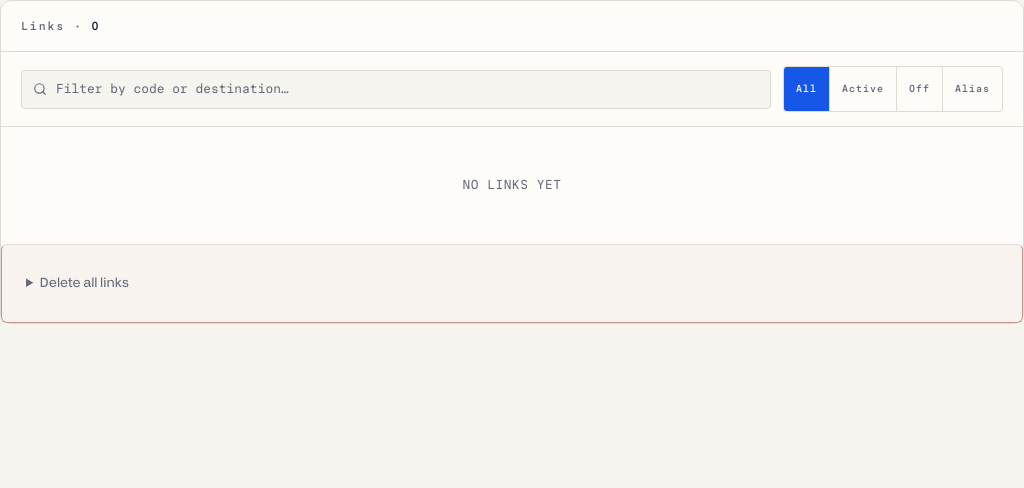
Test: admin delete-all flow › does not claim deletion on a malformed successful HTTP response
Click the heading "Delete all links". click: x=84, y=283
box: left=40, top=274, right=129, bottom=292
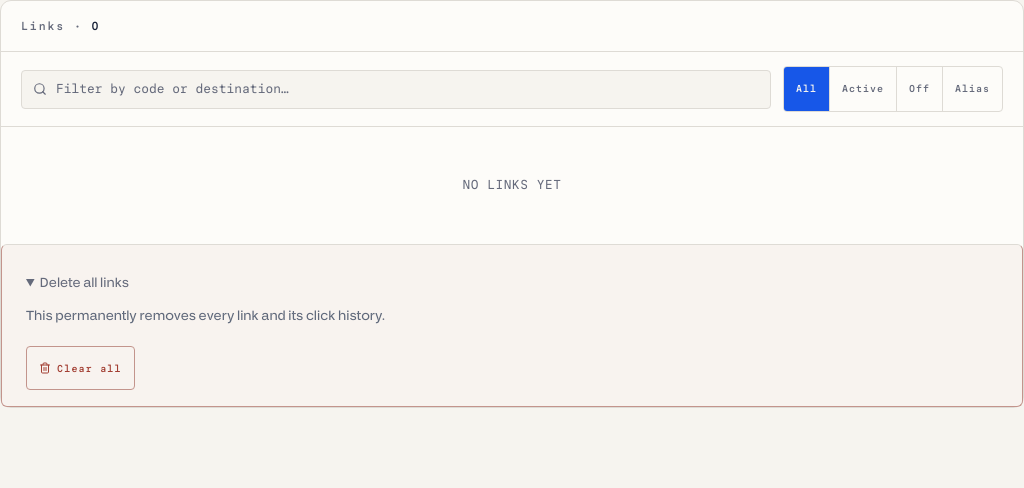
Click the button "Clear all". click: x=80, y=368
box: left=26, top=346, right=135, bottom=390
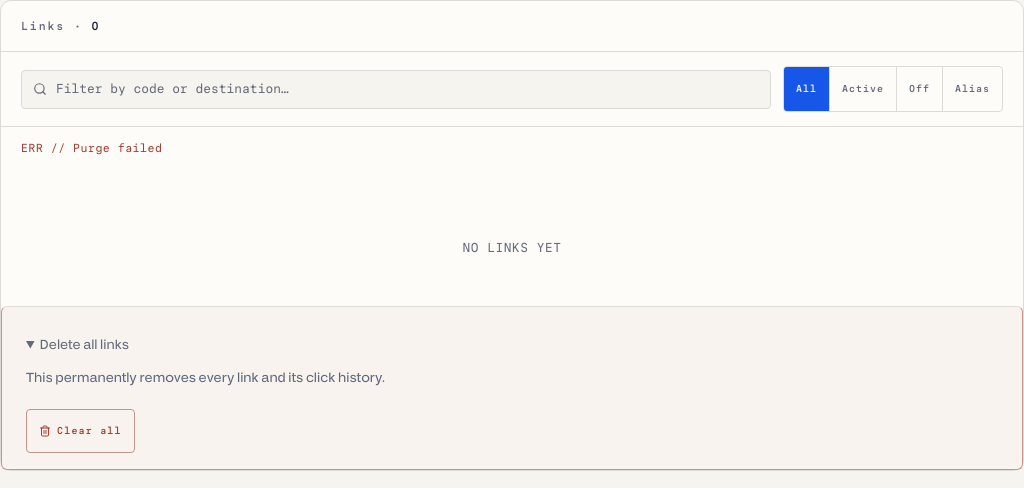
expect the text "ERR // Purge failed" is shown: met, box left=21, top=141, right=162, bottom=155
